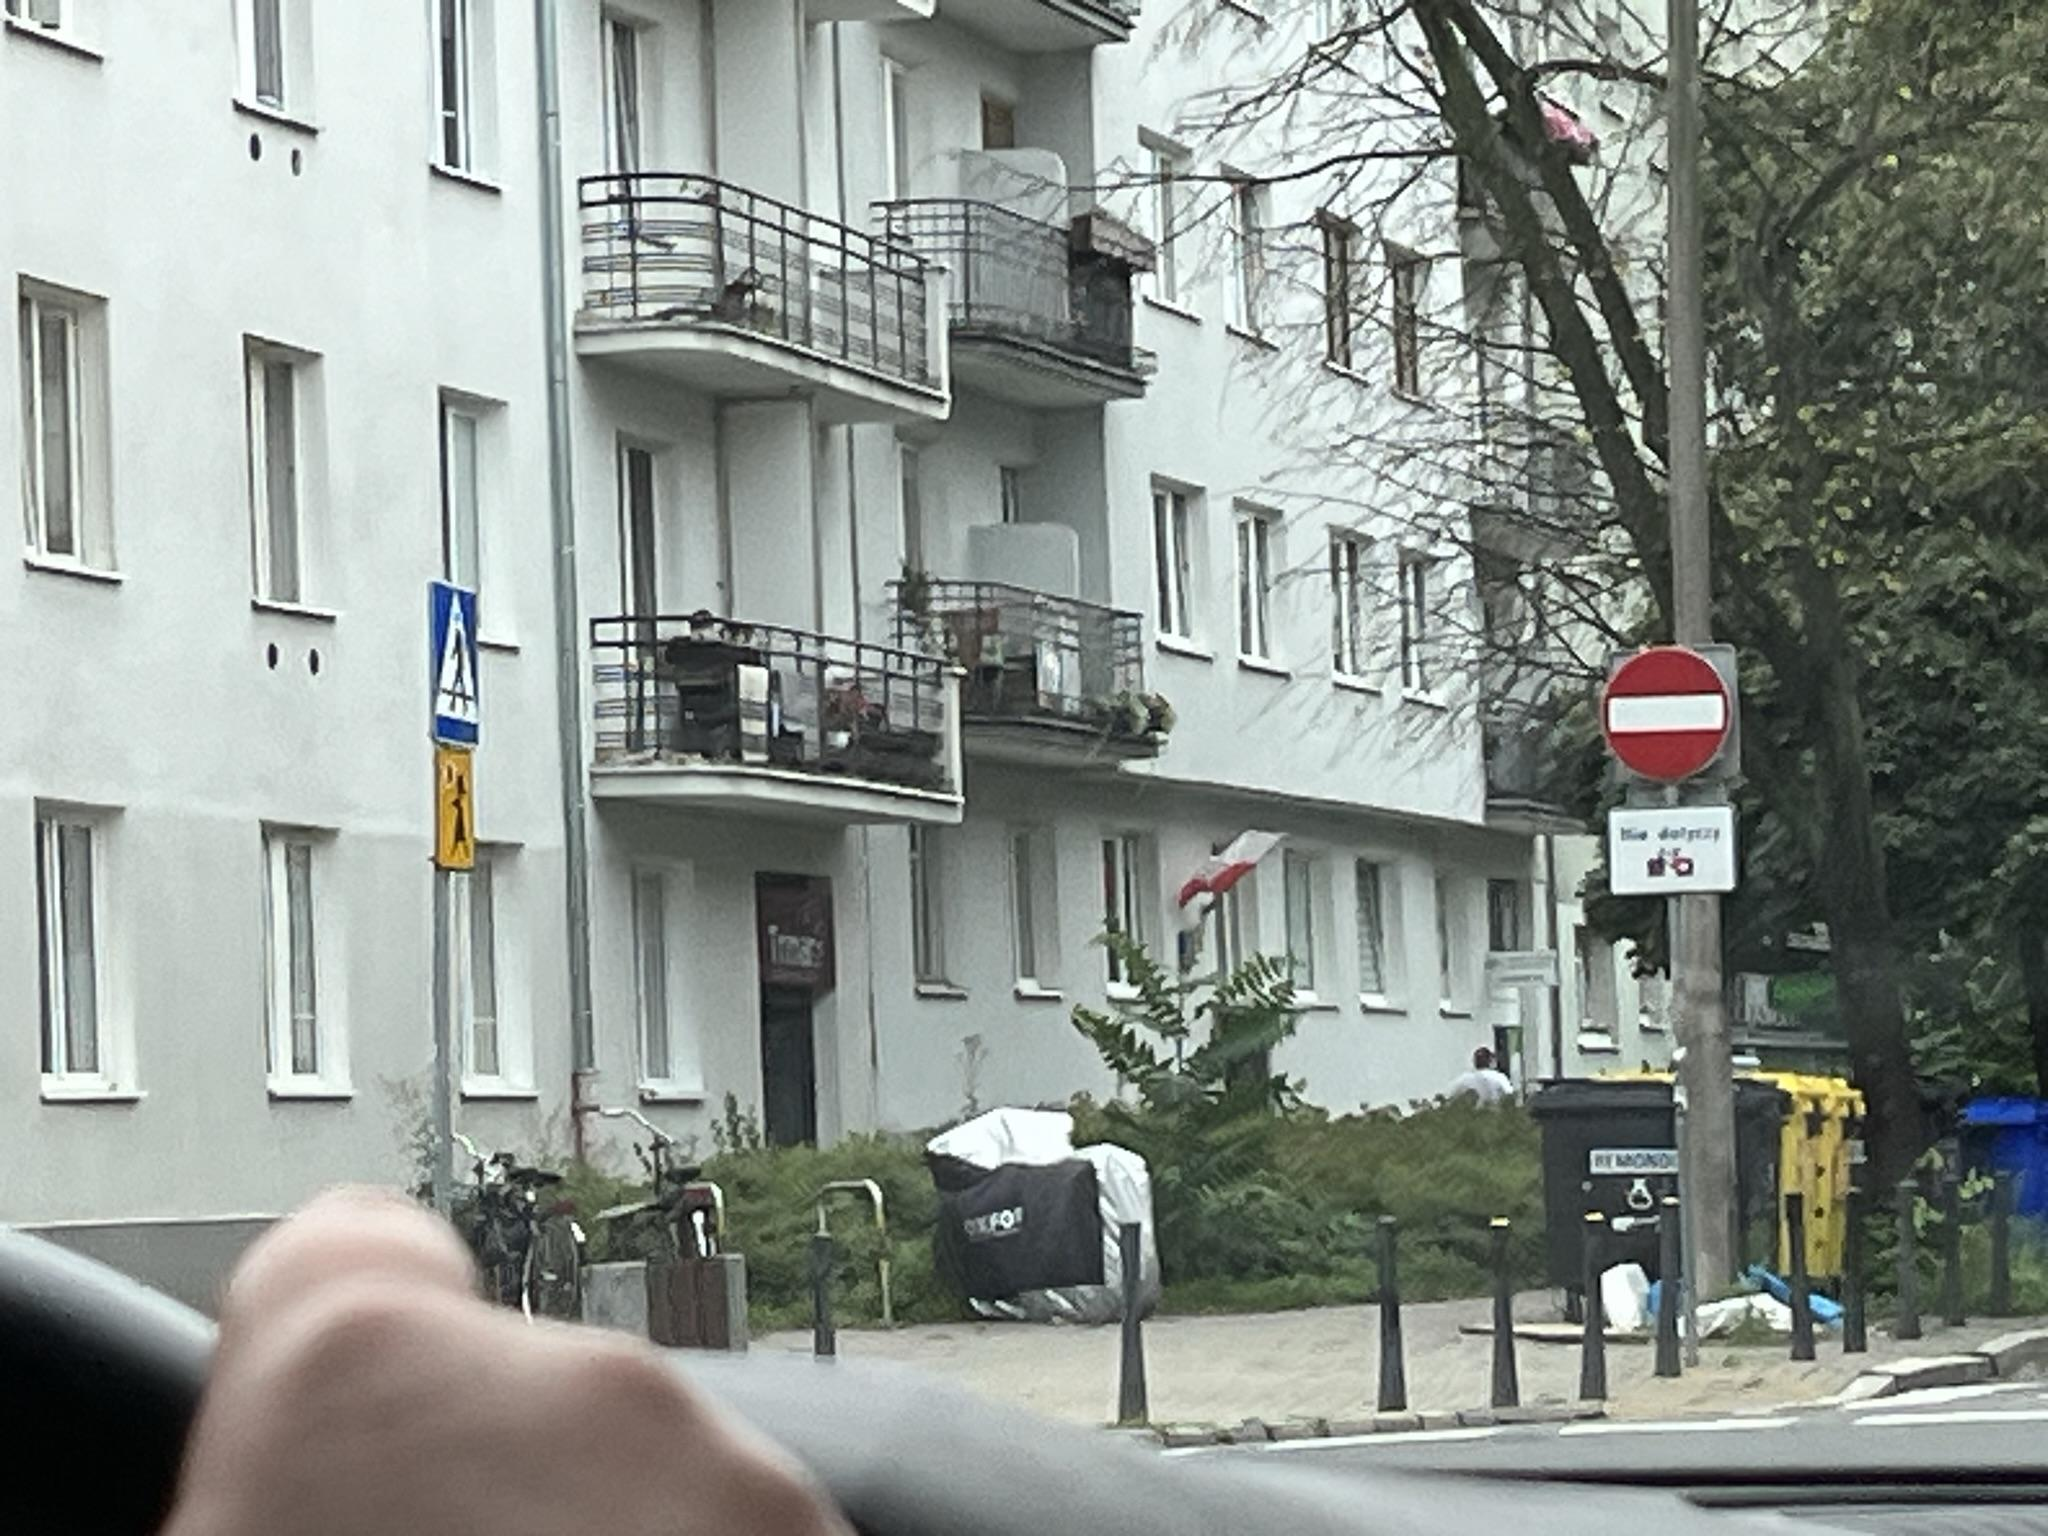information: (426, 580, 484, 754)
other: (1606, 804, 1742, 898), (438, 748, 472, 872)
prohibitory: (1602, 646, 1734, 784)
